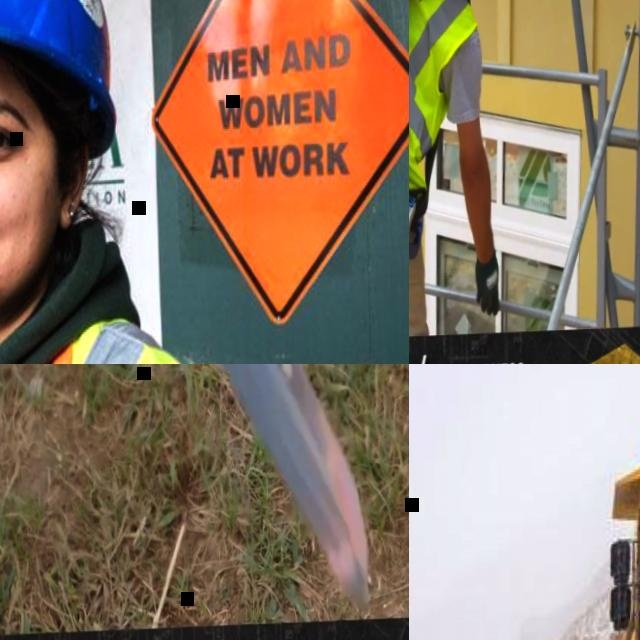Hardhat: (0, 0, 125, 166)
NO-Mask: (0, 205, 56, 318)
NO-Safety Vest: (409, 0, 484, 212)
Person: (0, 0, 256, 364), (409, 0, 531, 339)
